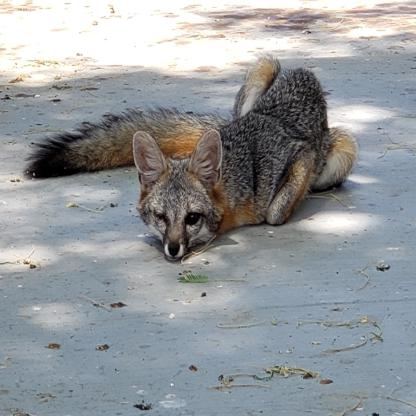zorro: (24, 51, 364, 264)
